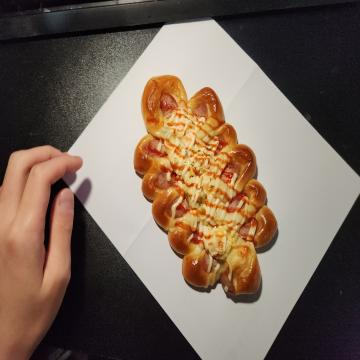pizza_bread: (136, 77, 274, 303)
